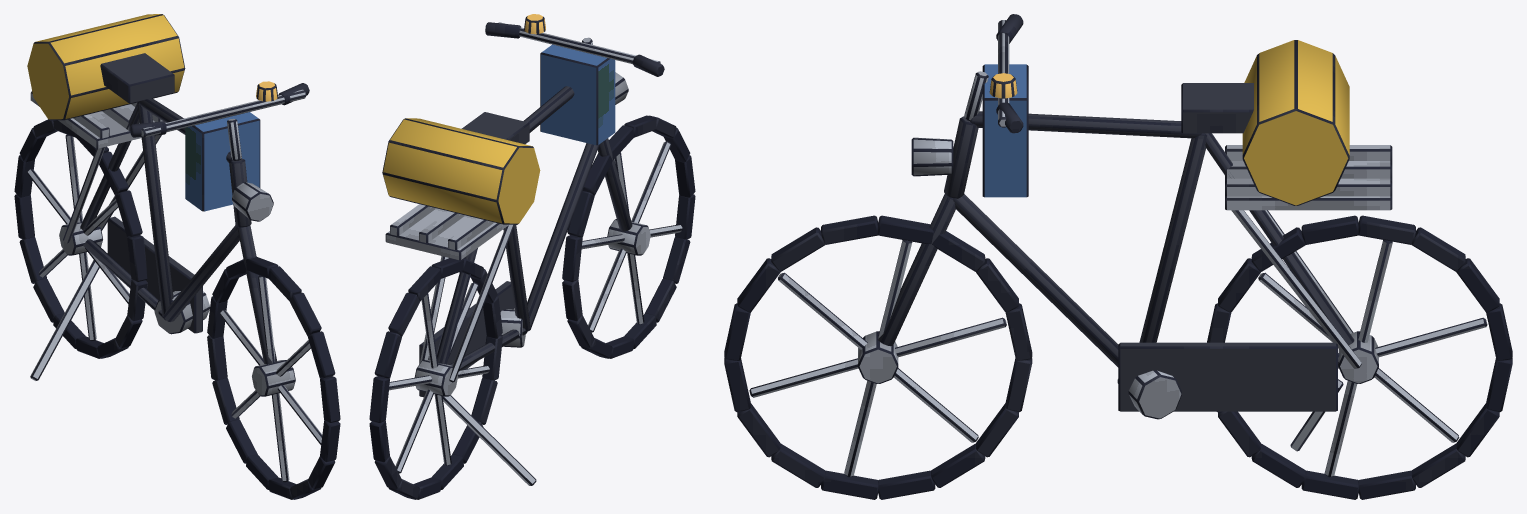
Rendered from cn_bicycle_1.glb.
3 renders of one model, left to right at view 1: azimuth 30°, elevation 25°; view 2: azimuth 150°, elevation 25°; view 3: azimuth 270°, elevation 25°, orthographic. The views are drawn at different scales.
Parts seen in each view (by area): view 1: cn_bicycle_2; view 2: cn_bicycle_2; view 3: cn_bicycle_2.
Boxes of the visible parts, x1,y1,x2,y2 form: cn_bicycle_2: (14,14,340,499); cn_bicycle_2: (369,14,695,499); cn_bicycle_2: (724,14,1512,499).
Size of the model in its own units: 0.6096 by 1.18 by 1.89.
6 materials, 6 textured.
